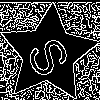S: (23, 29, 80, 82)
